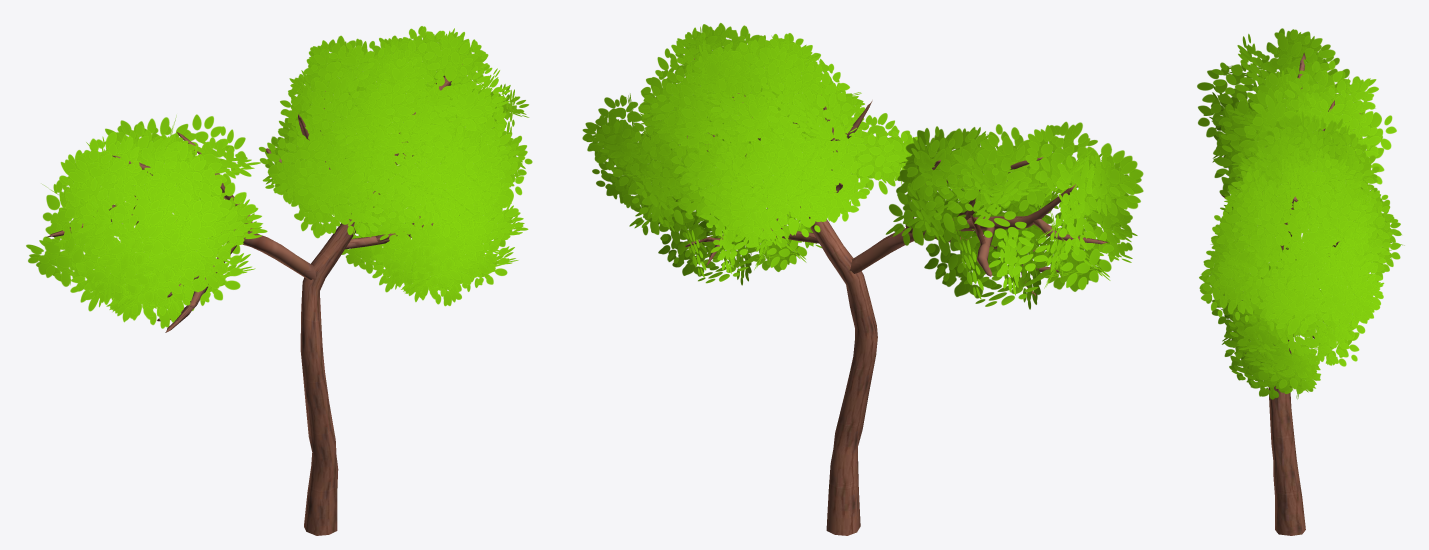
The model's file is normal_tree_4.glb.
3 views of the same model, side by side, from view 1: azimuth 30°, elevation 25°; view 2: azimuth 150°, elevation 25°; view 3: azimuth 270°, elevation 25° (orthographic). The views are drawn at different scales.
Visible parts, largest first — view 1: NormalTree_4; view 2: NormalTree_4; view 3: NormalTree_4.
Part boxes in pixels (x1,y1,x2,y2): NormalTree_4: [26, 26, 532, 535]; NormalTree_4: [582, 23, 1143, 535]; NormalTree_4: [1197, 28, 1404, 535].
Bounding box in the file's own units: 5.67 × 5.1 × 2.4.
Materials: 2 (2 with a texture image).
